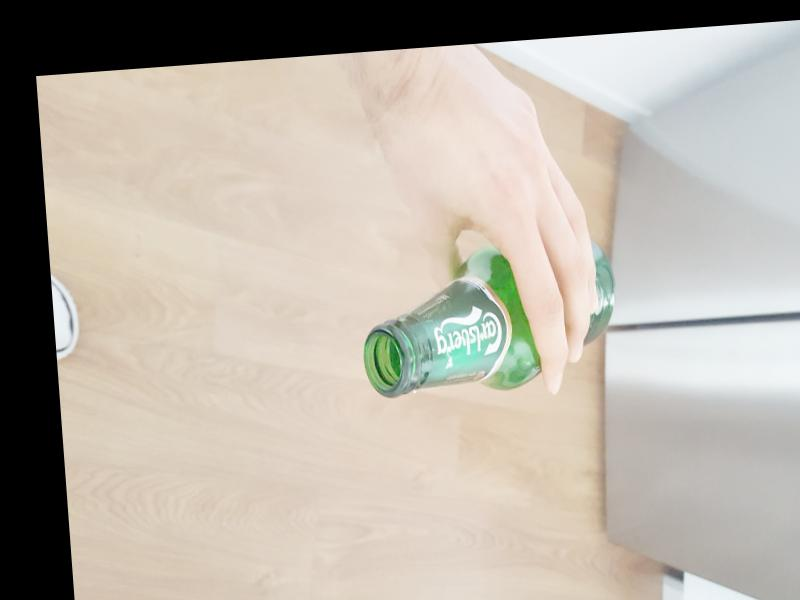Beer: (355, 238, 620, 399)
